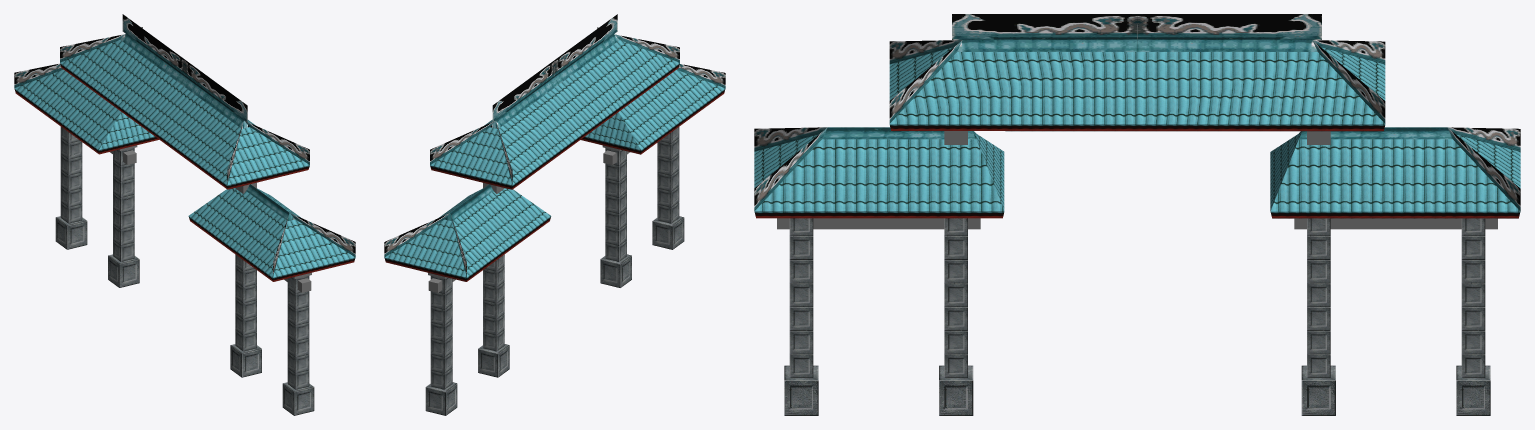
File: chinagate.obj
3 renders of one model, left to right at view 1: azimuth 30°, elevation 25°; view 2: azimuth 150°, elevation 25°; view 3: azimuth 270°, elevation 25°, orthographic. The views are drawn at different scales.
Parts seen in each view (by area): view 1: chinagate; view 2: chinagate; view 3: chinagate.
Part boxes in pixels (x1,y1,x2,y2): chinagate: [14, 14, 355, 415]; chinagate: [384, 14, 725, 415]; chinagate: [754, 14, 1520, 415].
Bounding box in the file's own units: 4.31 × 13.27 × 23.35.
Materials: 11 (6 with a texture image).
